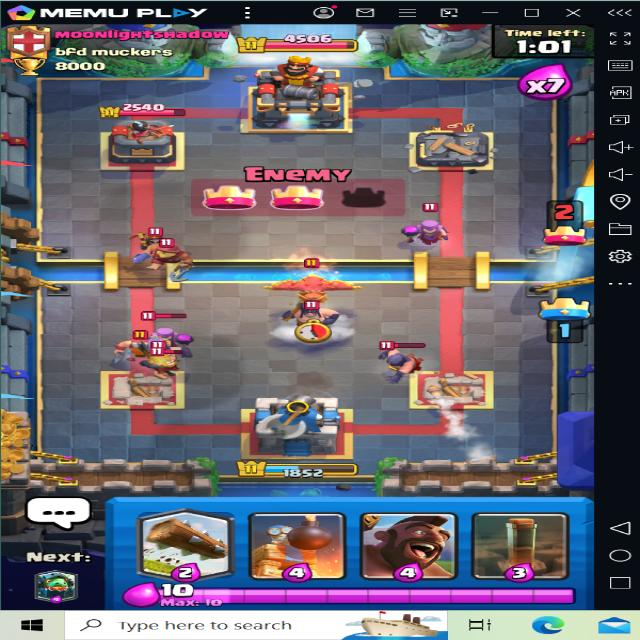executioner: (374, 339, 431, 379), (280, 301, 344, 334)
fisherman: (130, 234, 201, 282)
little-prince: (127, 216, 174, 256)
lumberjack: (109, 329, 168, 358)
mother-witch: (150, 311, 200, 360), (399, 205, 453, 249)
phoenix: (266, 257, 358, 308)
